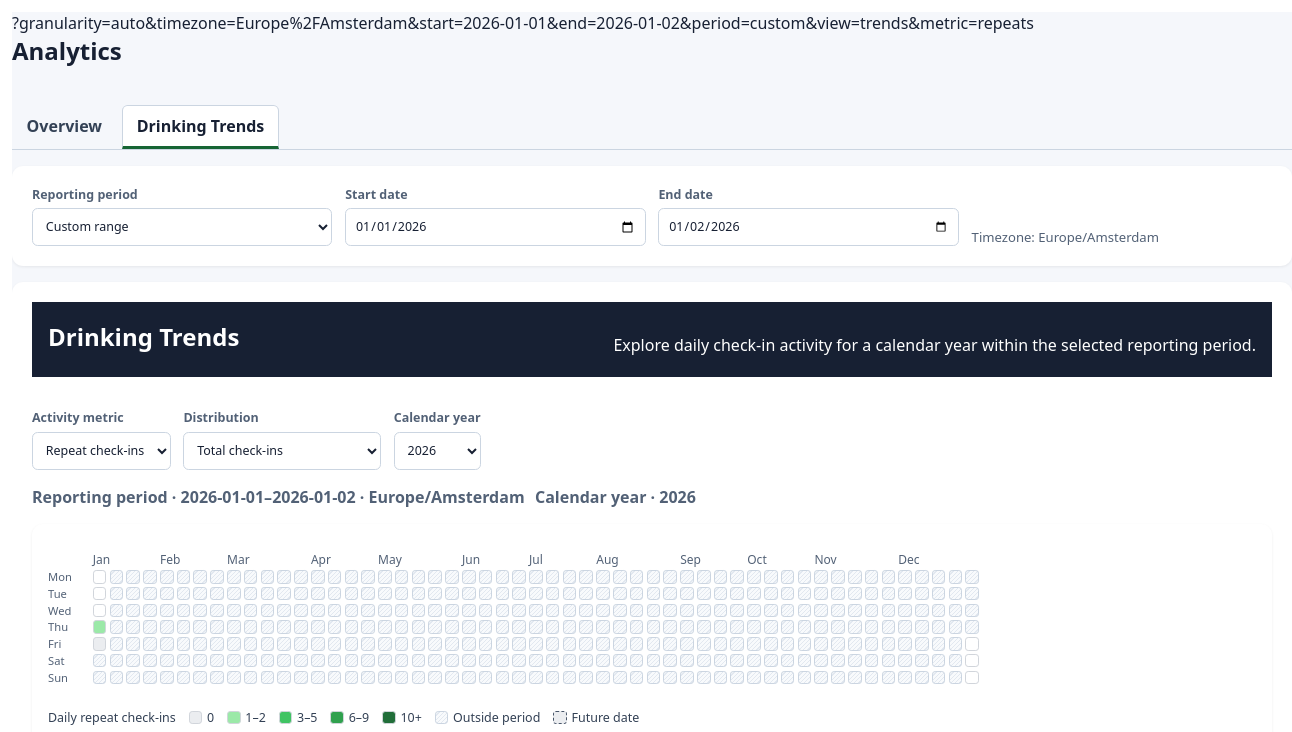
Scenario: trends fetch is scoped to its active view and custom date changes preserve view and metric
expect the table named "daily activity" is shown: met, box [48,569,979,685]
Type "2026-01-02" into the date field labelled "Start date" at (495, 227), box [345,208,646,246]
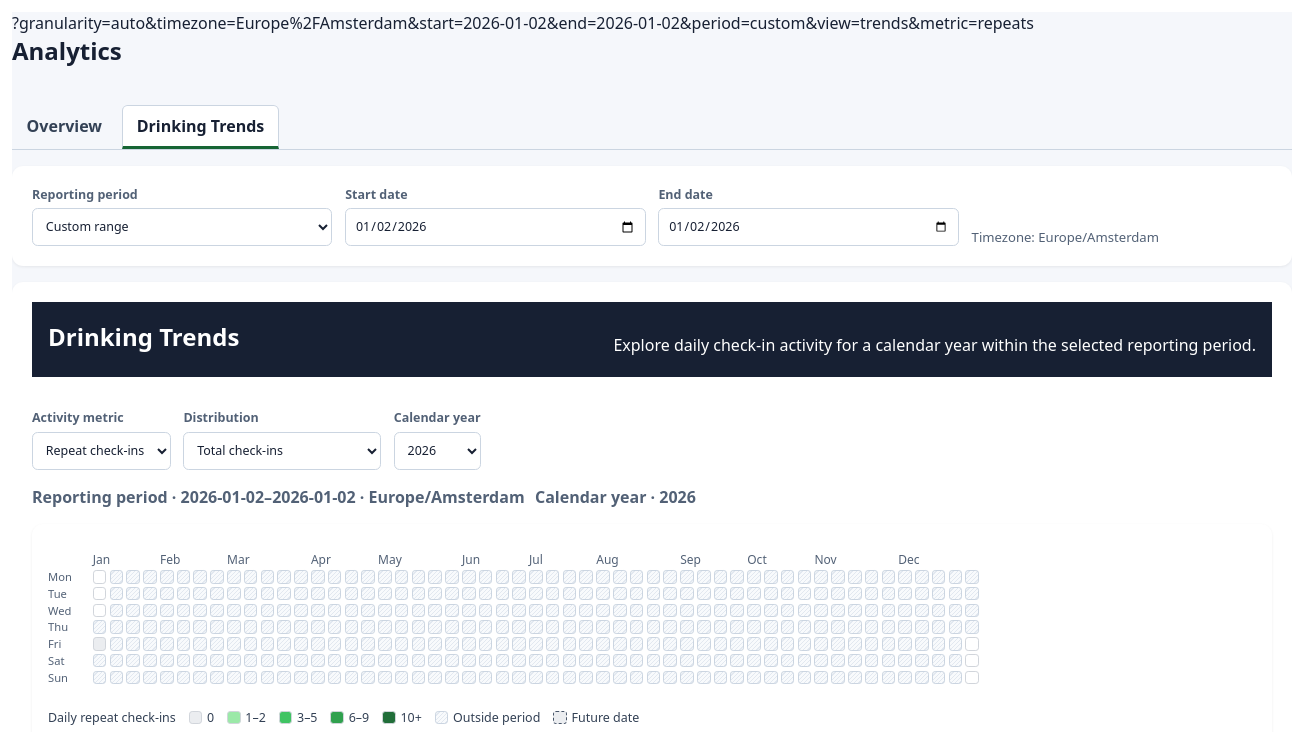
expect the text named "Current query" shows "view=trends": met, box [12,12,1034,34]
expect the text named "Current query" shows "start=2026-01-02": met, box [12,12,1034,34]
